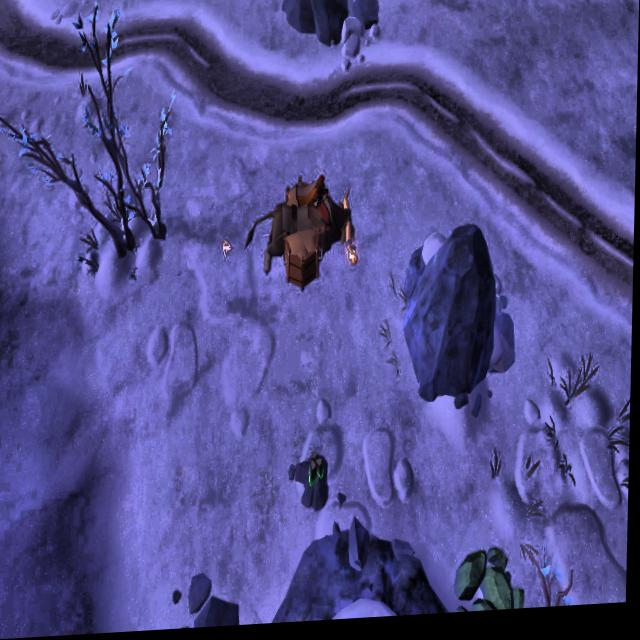ore_t3: (304, 448, 335, 506)
rock_t3: (457, 539, 526, 618)
